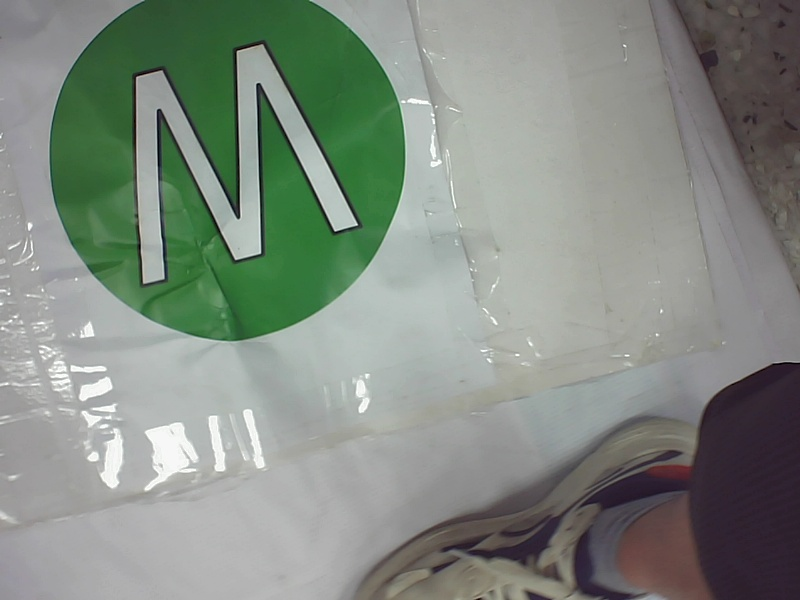areaB: (41, 2, 422, 351)
